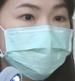with_mask: (1, 1, 75, 81)
